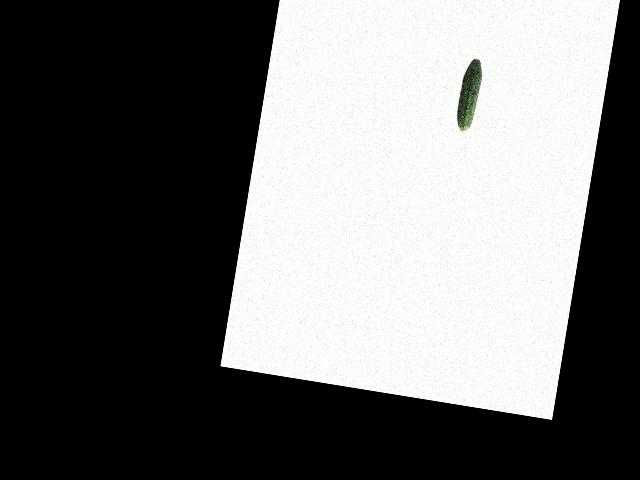cucumber: (454, 56, 484, 133)
